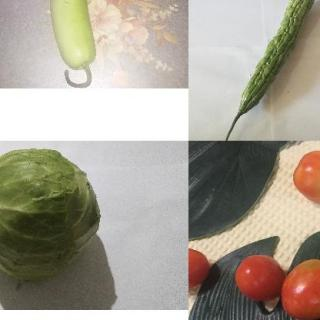Tomat: (231, 249, 319, 320), (282, 146, 320, 209), (189, 229, 217, 298)
